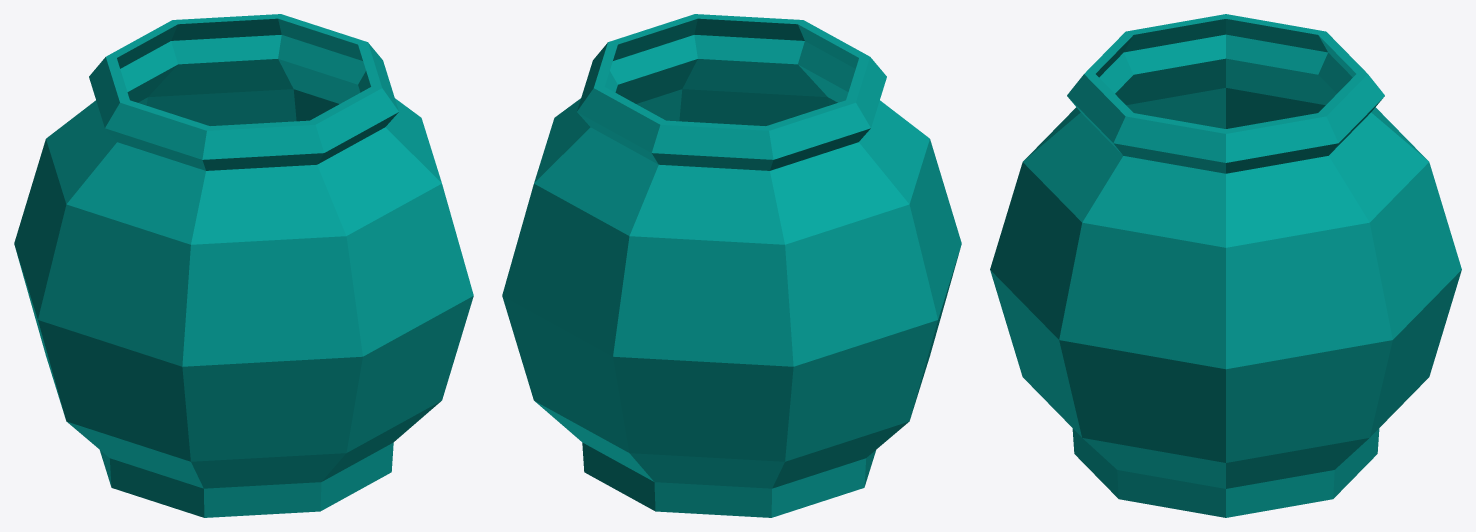
File: Pot_empty_4.fbx
3 views of the same model, side by side, from view 1: azimuth 30°, elevation 25°; view 2: azimuth 150°, elevation 25°; view 3: azimuth 270°, elevation 25° (orthographic).
Visible parts, largest first — view 1: Pot_empty_4; view 2: Pot_empty_4; view 3: Pot_empty_4.
Part boxes in pixels (x1,y1,x2,y2): Pot_empty_4: (14, 14, 473, 517); Pot_empty_4: (502, 14, 961, 517); Pot_empty_4: (990, 14, 1461, 517).
Size of the model in its own units: 18.42 by 18.42 by 16.57.
